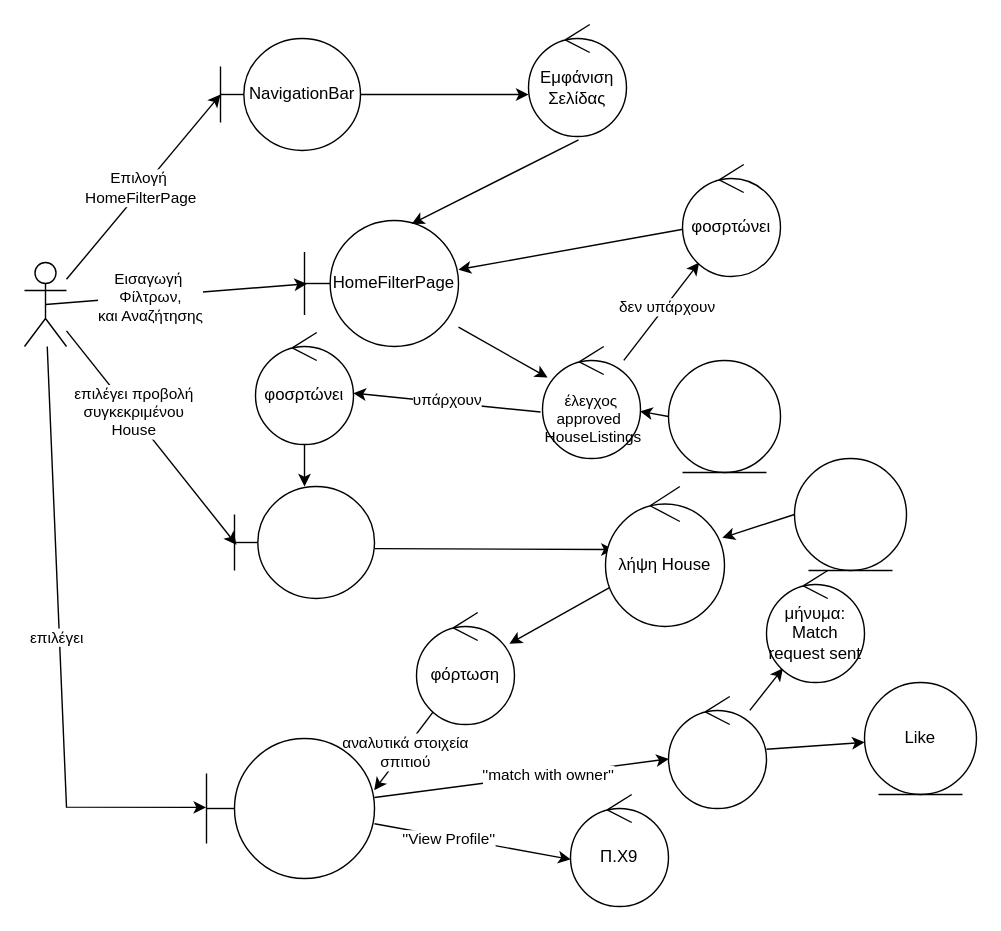
This 1001x931 diagram has some shape labels left out. The shapes that lost their labels are listed below. From the top down, each one's centre as x and y in pixels, then its label:
At (x=44, y=303): "User".
At (x=723, y=415): "HouseListing".
At (x=849, y=513): "House".
At (x=303, y=541): "House ListingPage".
At (x=716, y=751): "καταγραφει like".
At (x=289, y=807): "HouseDetailsPage".
